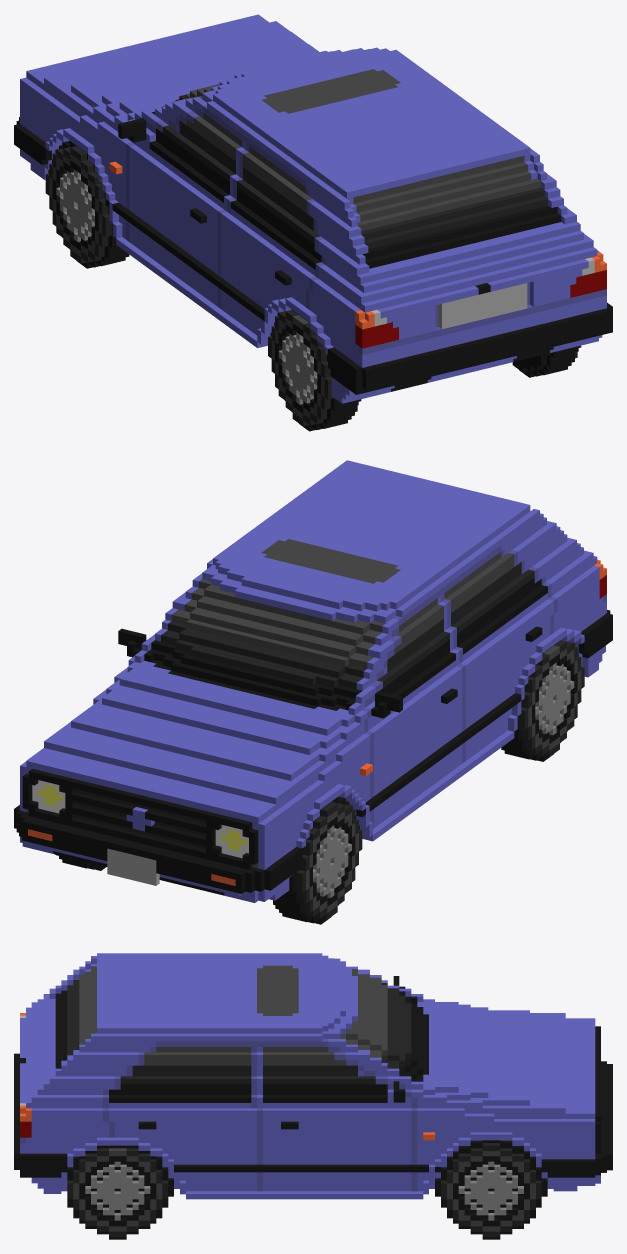
3 renders of one model, top to bottom at view 1: azimuth 30°, elevation 25°; view 2: azimuth 150°, elevation 25°; view 3: azimuth 270°, elevation 25°, orthographic. The views are drawn at different scales.
Visible parts, largest first — view 1: VOX; view 2: VOX; view 3: VOX.
Boxes of the visible parts, bbox=[...] form: VOX: bbox=[14, 14, 612, 431]; VOX: bbox=[14, 460, 612, 924]; VOX: bbox=[14, 953, 612, 1239].
Bounding box in the file's own units: 0.046 × 0.037 × 0.101.
